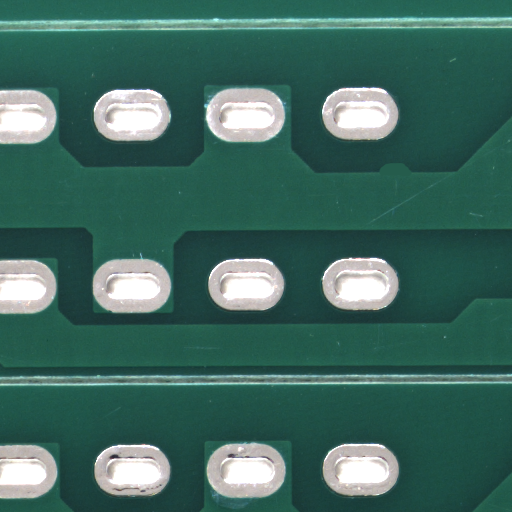Spur: (393, 168, 427, 182)
